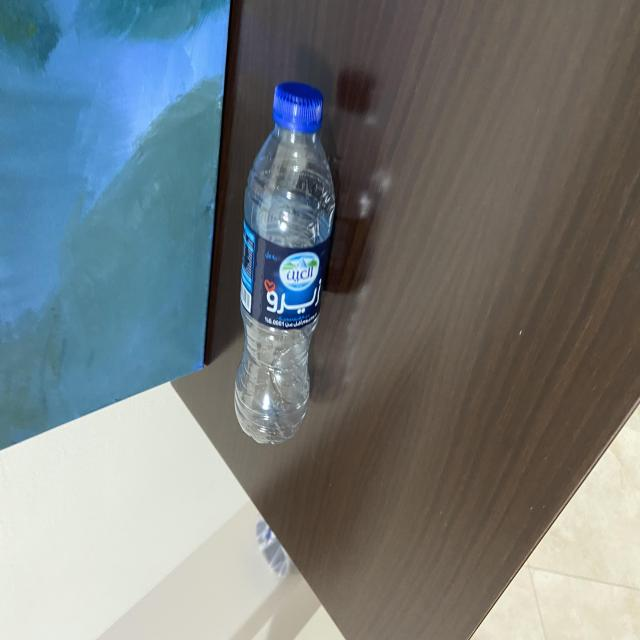plastic: (231, 64, 338, 453)
